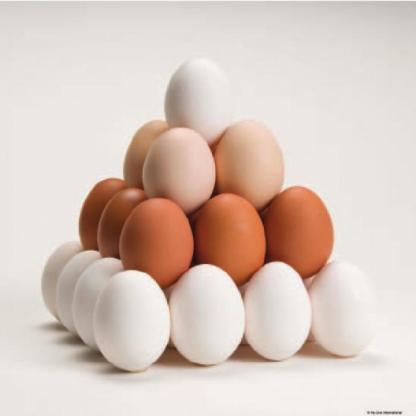egg: (163, 261, 252, 384), (310, 256, 388, 376), (96, 266, 176, 382), (244, 258, 322, 373), (160, 51, 241, 147), (264, 177, 334, 286), (121, 184, 192, 290), (189, 192, 269, 286), (139, 128, 220, 216), (212, 116, 288, 209), (25, 222, 85, 332), (76, 152, 132, 262), (74, 255, 130, 362), (99, 172, 151, 272), (58, 250, 100, 356), (118, 106, 172, 188)
